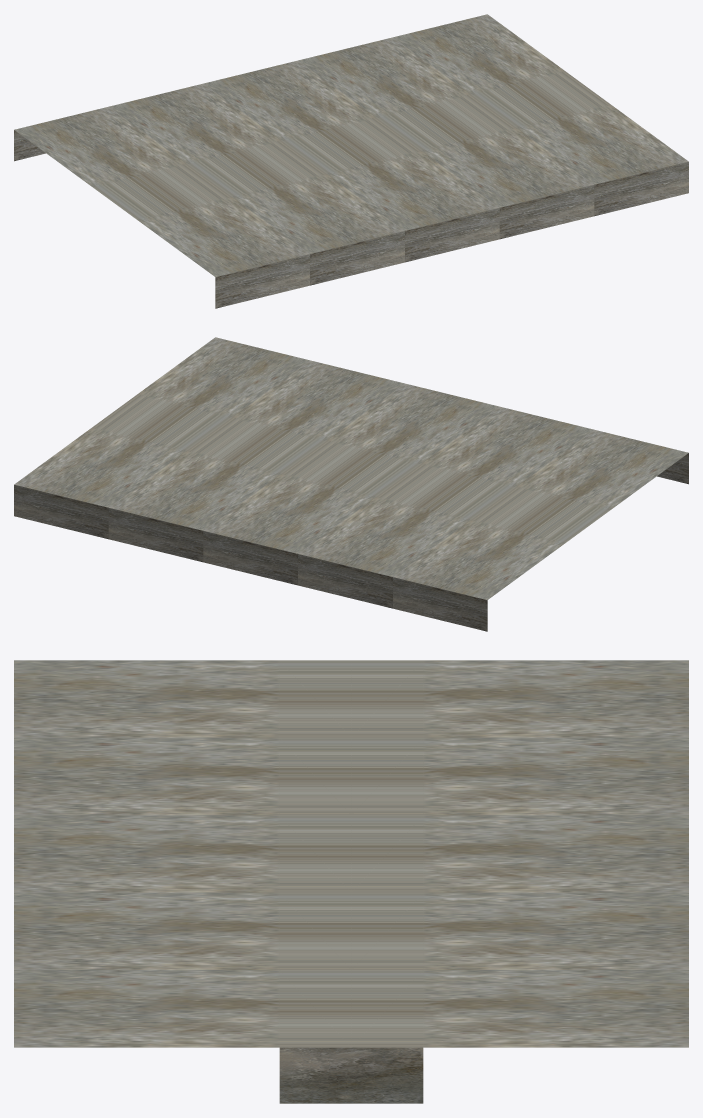
File: floor.fbx
The picture shows the model from 3 angles, top to bottom: view 1: azimuth 30°, elevation 25°; view 2: azimuth 150°, elevation 25°; view 3: azimuth 270°, elevation 25°; orthographic projection. The views are drawn at different scales.
Parts seen in each view (by area): view 1: Cube.015; view 2: Cube.015; view 3: Cube.015.
Part boxes in pixels (x1,y1,x2,y2): Cube.015: (14, 14, 688, 308); Cube.015: (14, 337, 688, 631); Cube.015: (14, 660, 688, 1103).
Bounding box in the file's own units: 1000 × 67.53 × 737.
2 materials, 2 textured.
